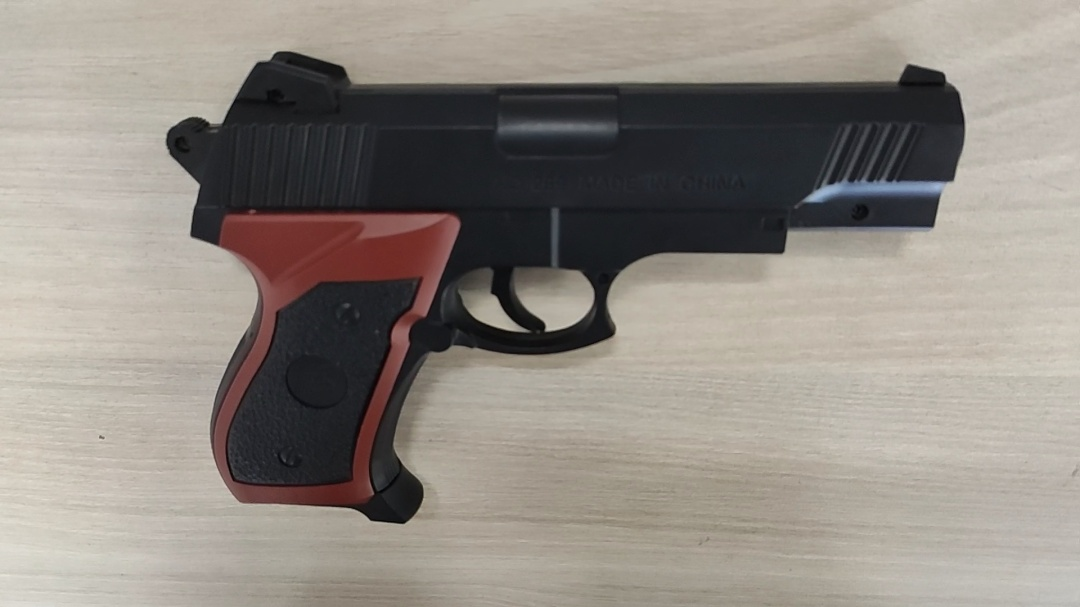gun: (159, 45, 967, 530)
